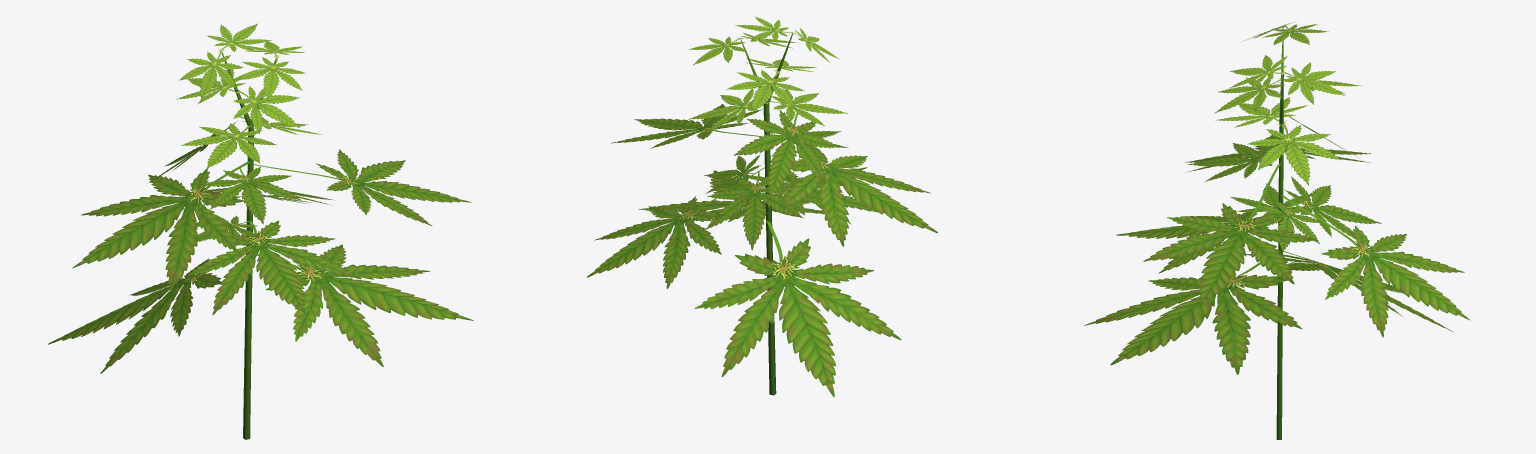
File: CannabisStage03_03.fbx
The picture shows the model from 3 angles, left to right: view 1: azimuth 30°, elevation 25°; view 2: azimuth 150°, elevation 25°; view 3: azimuth 270°, elevation 25°; orthographic projection. The views are drawn at different scales.
Visible parts, largest first — view 1: CannabisStage03_03_LOD0; view 2: CannabisStage03_03_LOD0; view 3: CannabisStage03_03_LOD0.
Part boxes in pixels (box(x1,y1,x2,y2)): CannabisStage03_03_LOD0: box(48, 23, 473, 439); CannabisStage03_03_LOD0: box(586, 16, 937, 397); CannabisStage03_03_LOD0: box(1084, 21, 1470, 439).
Size of what is drawn, in the model's own units: 89.88 by 82.34 by 91.94.
